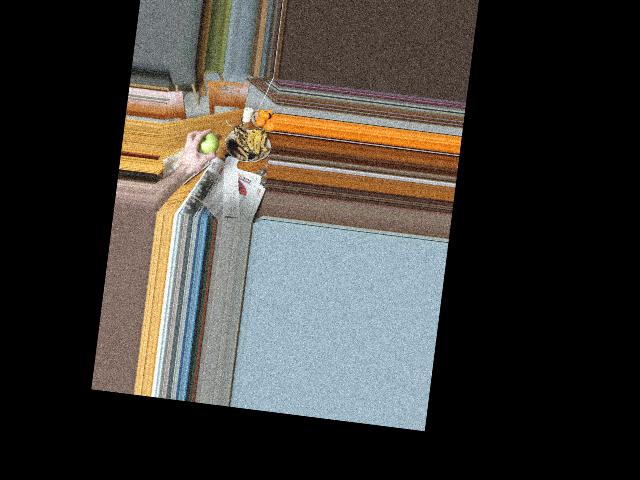apple: (196, 128, 221, 156)
